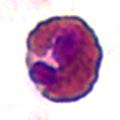eosi: (20, 13, 104, 106)
